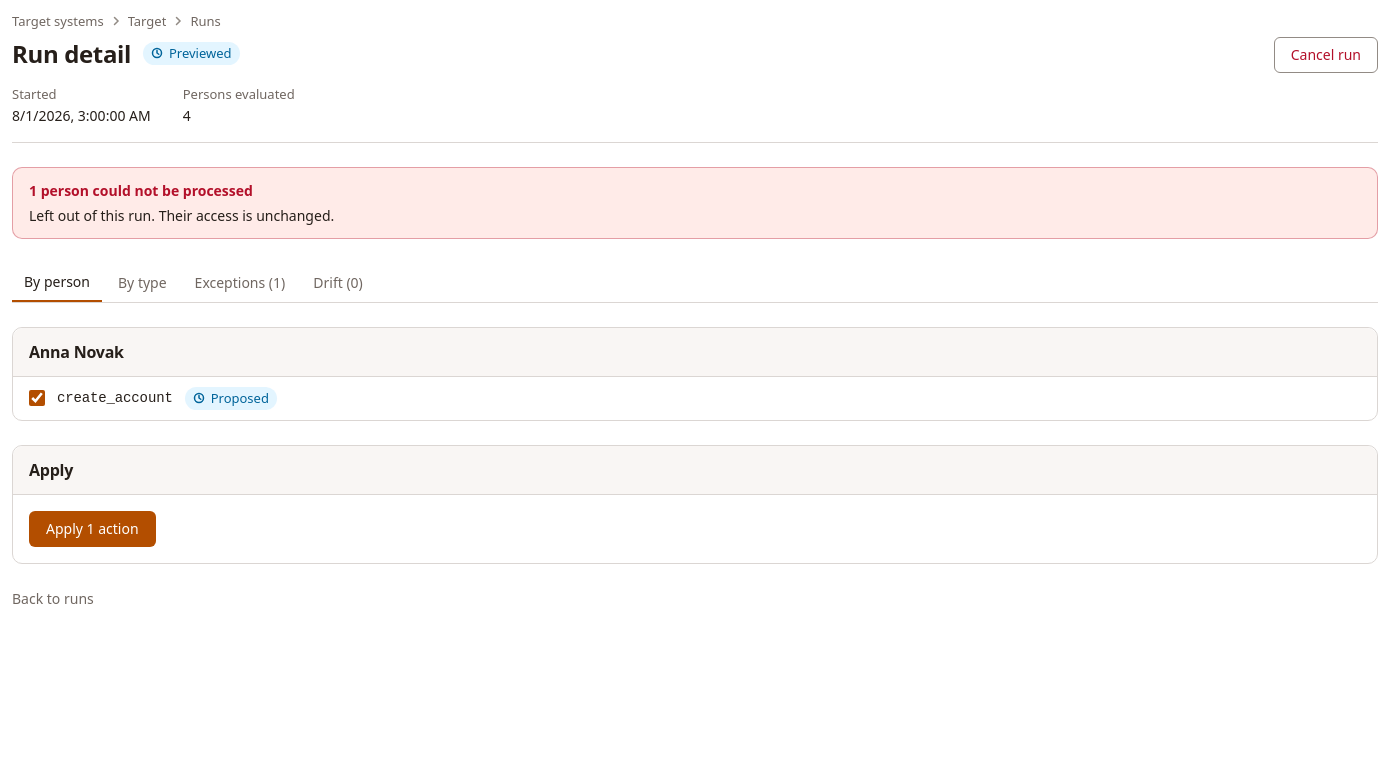
Test: ProvisionRunDetailPage › leads with the persons it could not process
Check: the text "1 person could not be processed" is shown, box [29,181,253,200]
Click the button "Exceptions (1)".
click(240, 283)  # box [183,263,297,302]
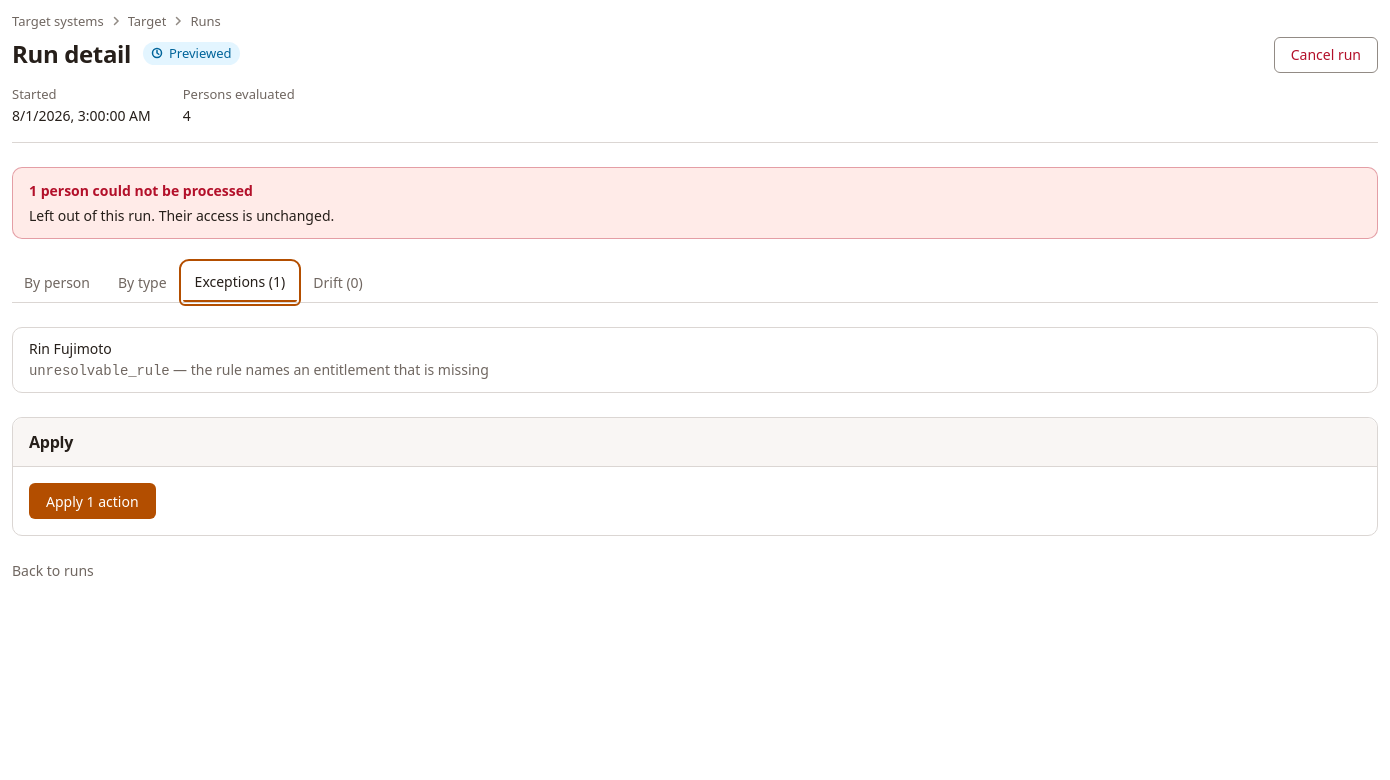
Check: the text "Rin Fujimoto" is shown, box [29,339,112,358]
